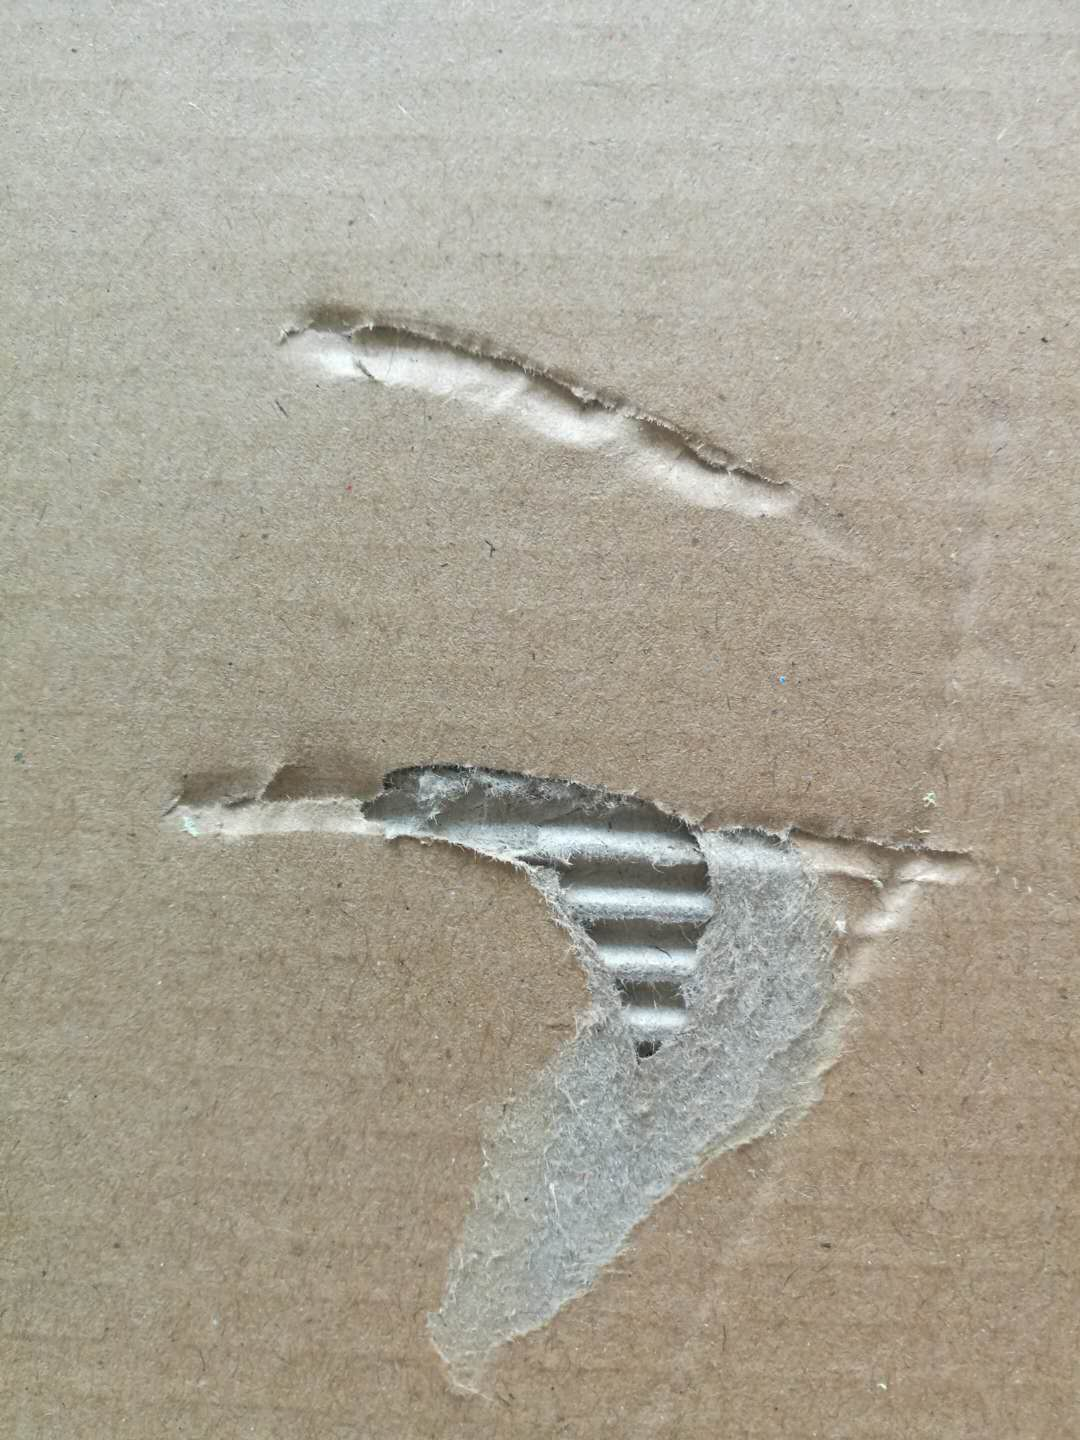defect: (126, 715, 1057, 1440), (263, 264, 1079, 735)
